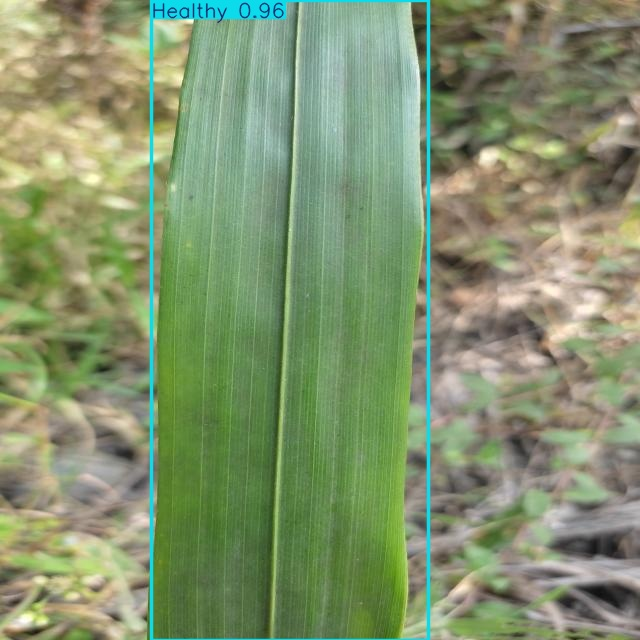Healthy: (151, 0, 428, 640)
